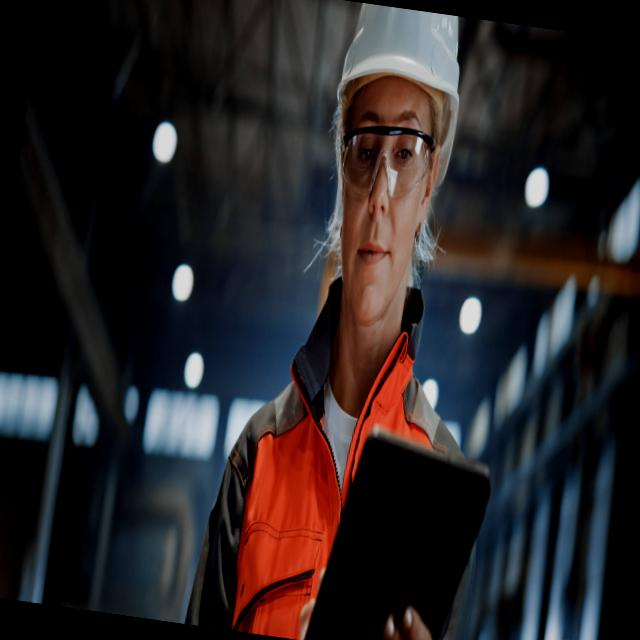goggles: (338, 120, 445, 208)
helmet: (331, 2, 478, 178)
no-vest: (197, 323, 498, 640)
